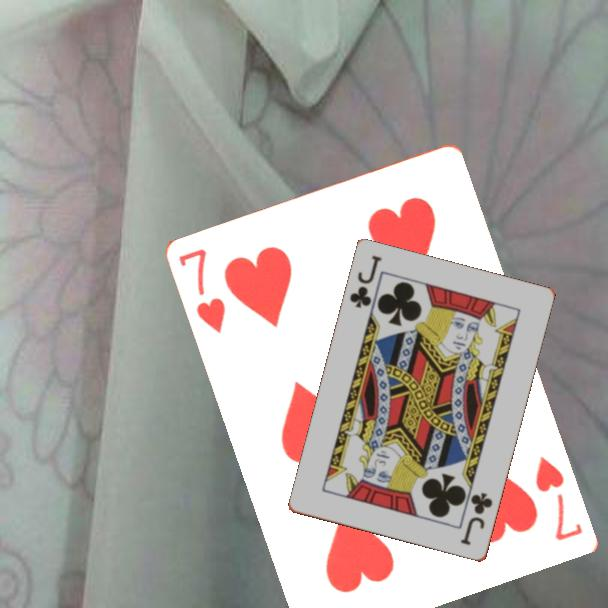c11: (457, 489, 496, 549), (346, 252, 385, 312)
h07: (532, 453, 586, 545), (175, 245, 229, 337)
